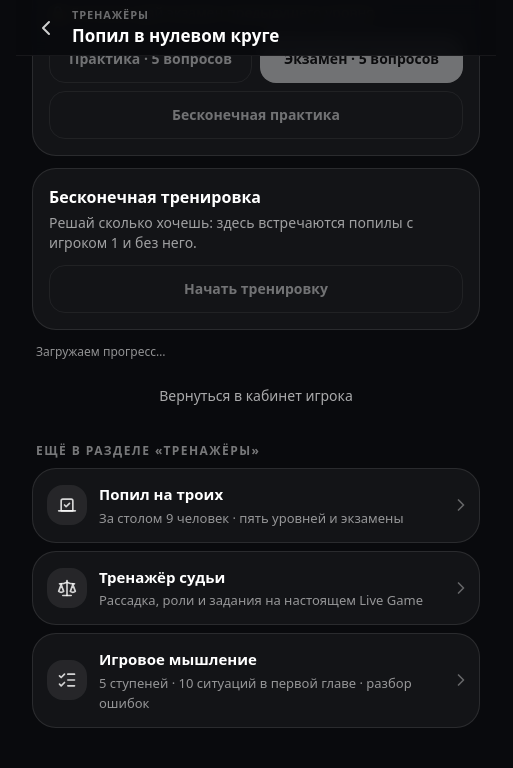
Test: public guide for novices › goes up to the section when a trainer link was opened directly
The image size is (513, 768).
(page scrolled)
Click the button with test id "guide-back": (46, 28) [24,6,68,50]
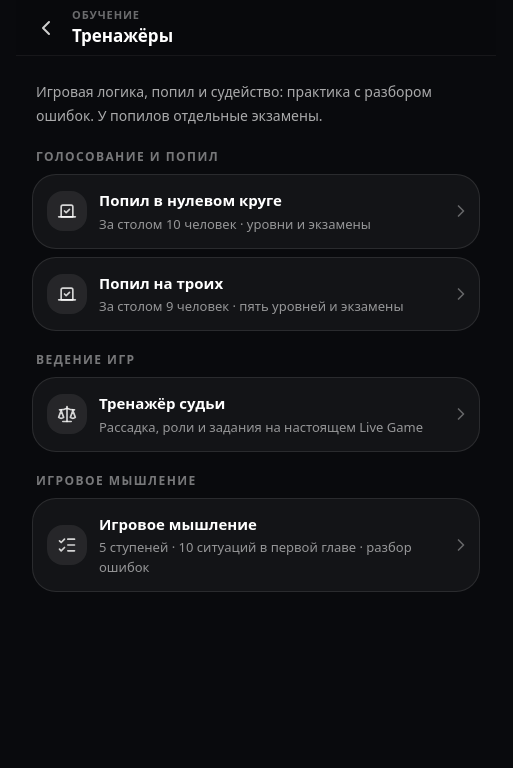
expect the element with test id "guide-shelf-trainers" is shown: met, box [32,72,480,592]
Click the button with test id "guide-back": (46, 28) [24,6,68,50]
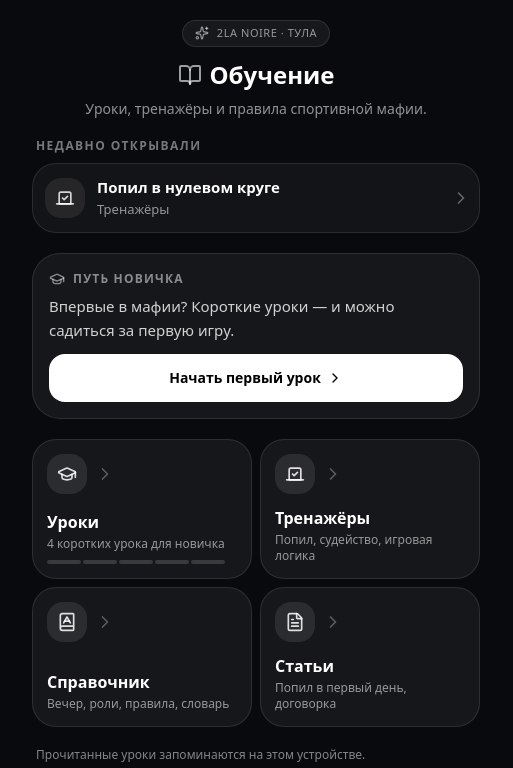
expect the element with test id "guide-sections" is shown: met, box [32,438,480,726]
expect the button with test id "guide-recent" shows "Попил в нулевом круге": met, box [32,162,480,232]
